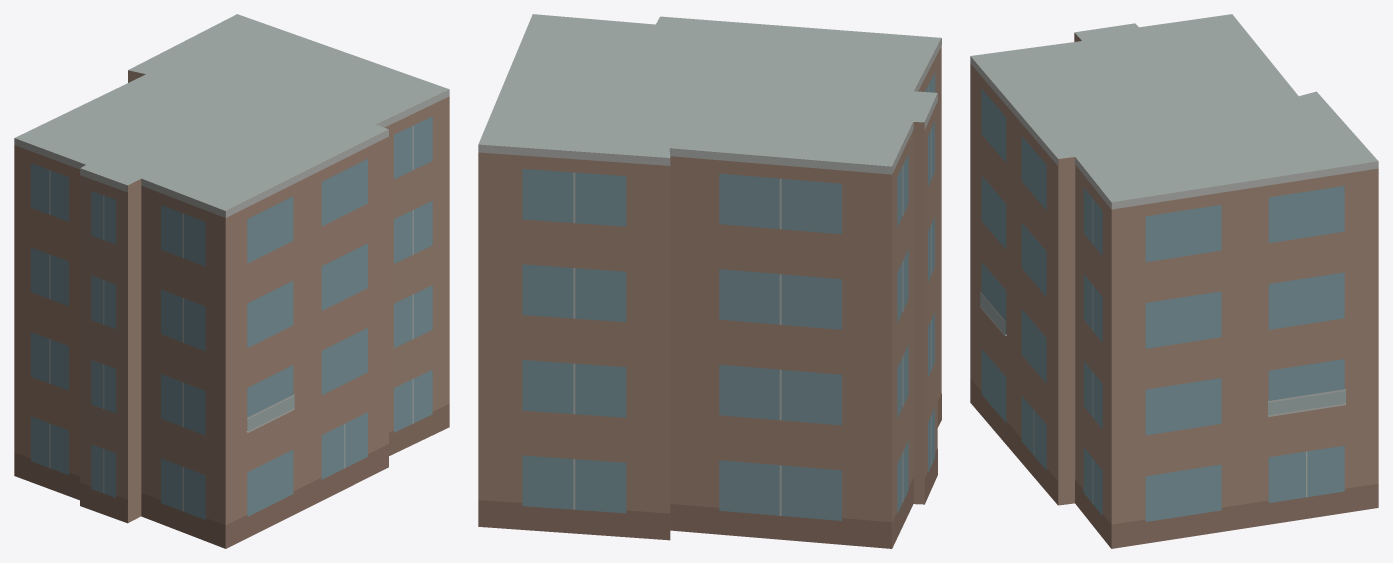
File: survey-upis-32974838.glb
3 views of the same model, side by side, from view 1: azimuth 30°, elevation 25°; view 2: azimuth 150°, elevation 25°; view 3: azimuth 270°, elevation 25° (orthographic). The views are drawn at different scales.
Parts seen in each view (by area): view 1: survey-upis-32974838.tmp; view 2: survey-upis-32974838.tmp; view 3: survey-upis-32974838.tmp.
Boxes of the visible parts, x1,y1,x2,y2 form: survey-upis-32974838.tmp: (14, 14, 449, 548); survey-upis-32974838.tmp: (478, 14, 941, 548); survey-upis-32974838.tmp: (970, 14, 1378, 548).
Size of the model in its own units: 13.77 by 11.8 by 12.61.
